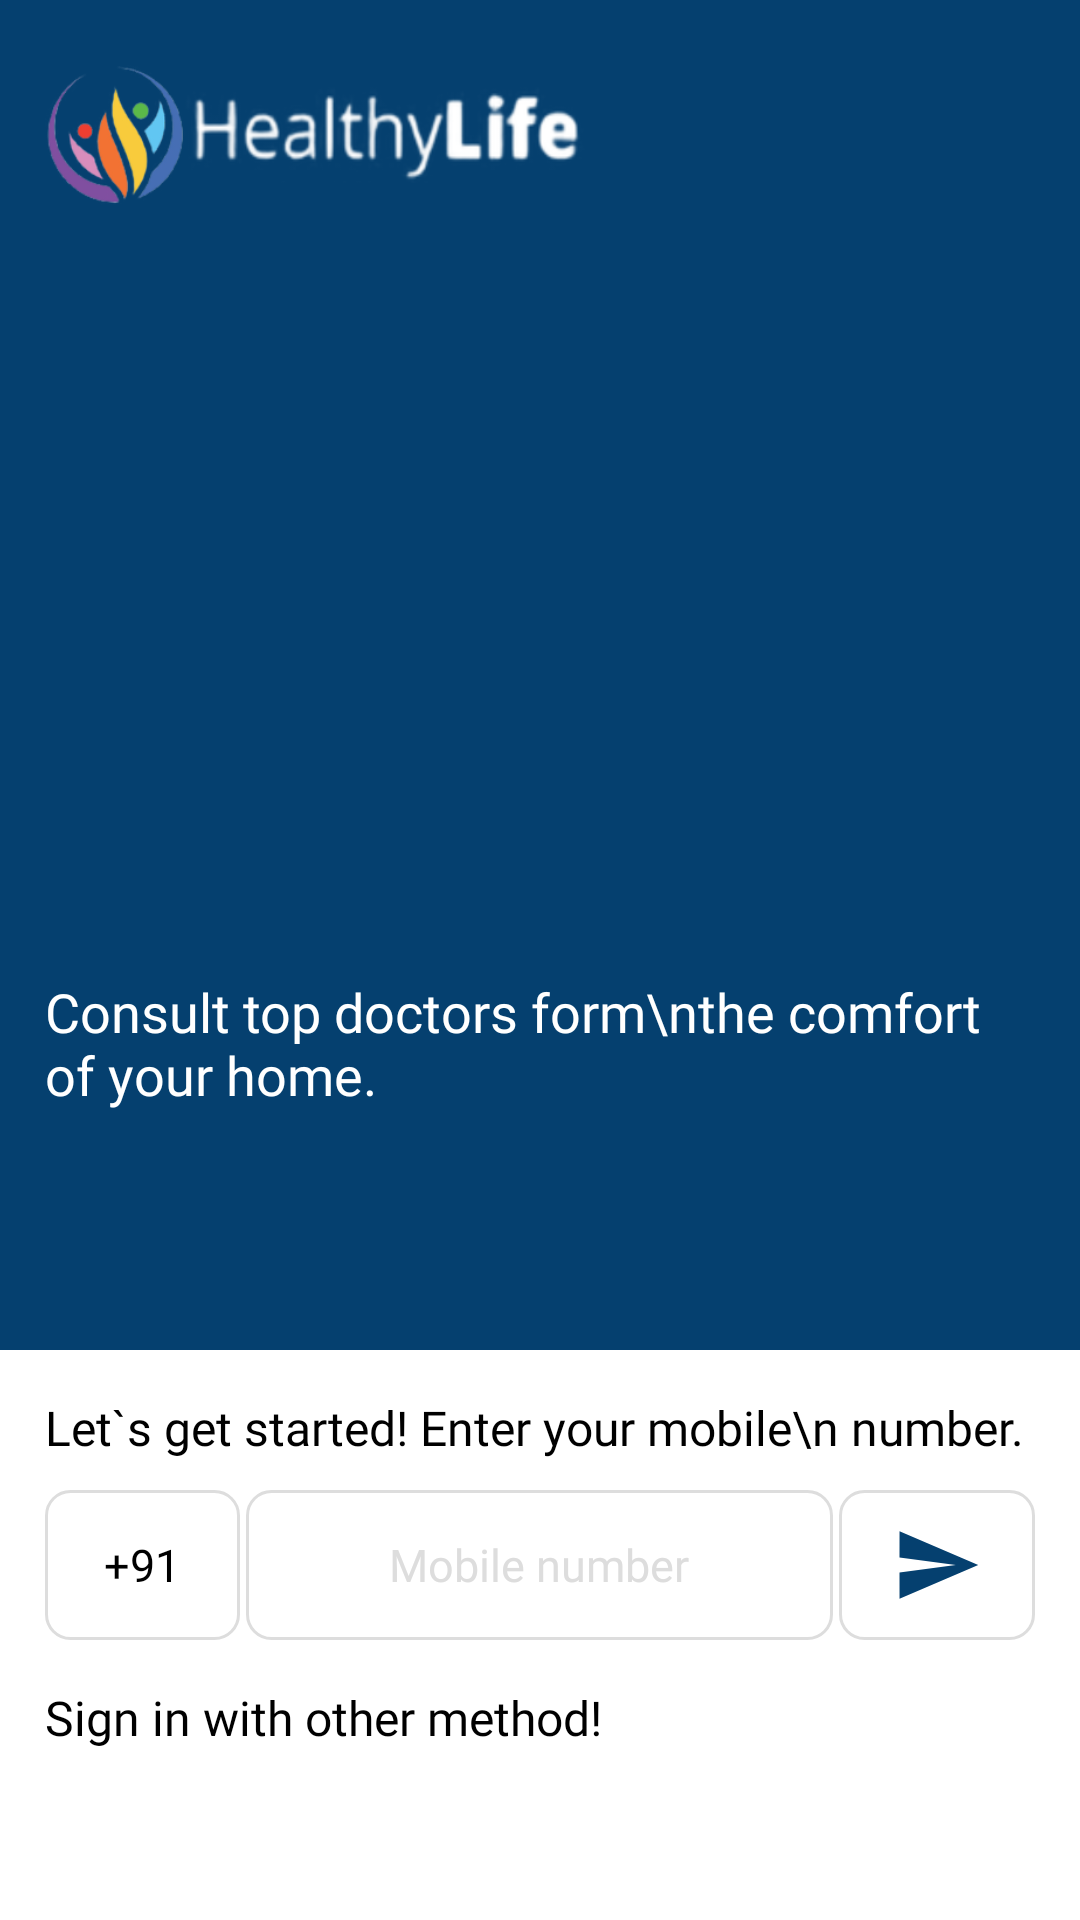

Icon bounding boxes for this 1080×1920 phone screenshot, format (x1, y1, x2, y2):
send: (899, 1531, 978, 1599)
